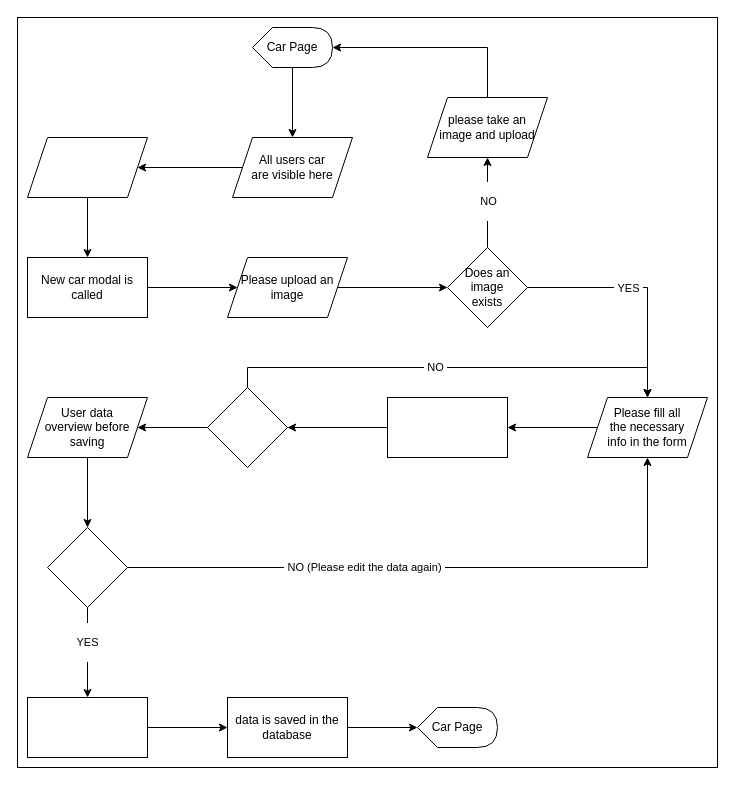
The diagram is 735 pixels wide and 785 high, and some of its shapes have lost their labels. The box of each missing label's shape, as (x1, y1, x2, y2) in pixels:
Create a new car: (26, 136, 148, 198)
is all data inserted: (206, 386, 288, 468)
Is user okay with the data: (46, 526, 128, 608)
the data is send to ASP.NET: (26, 696, 148, 758)
User insert the data and upload image: (386, 396, 508, 458)
